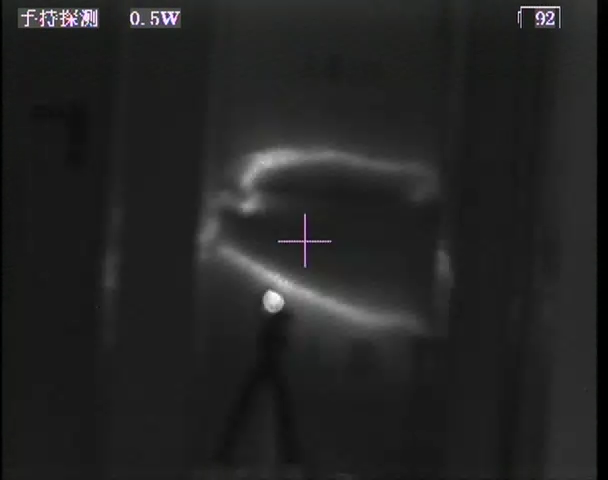my: (259, 286, 288, 315)
